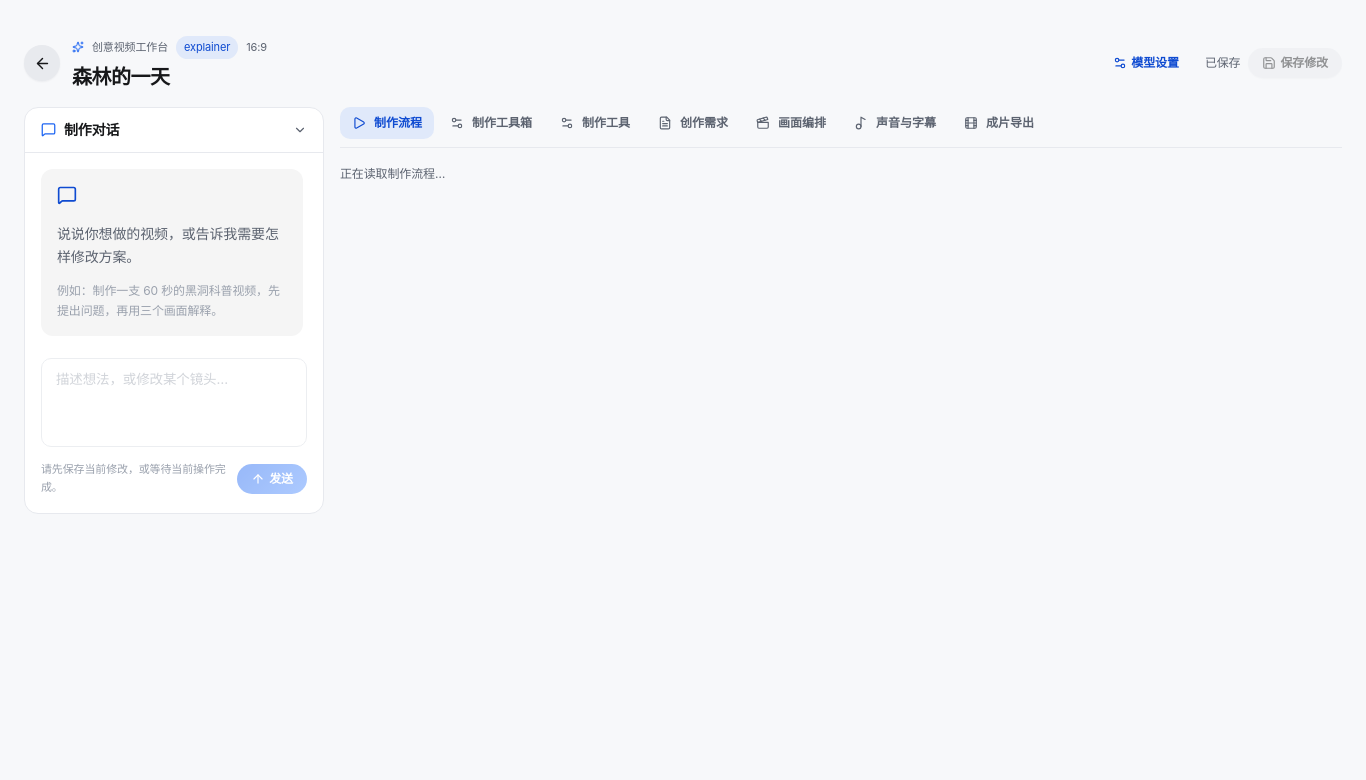
Test case: CreativeWorkbenchPage › saves a revisioned draft before allowing approval
The image size is (1366, 780).
Click the tab "创作需求".
click(693, 123)  # box 646,107 -> 740,139
(page scrolled)
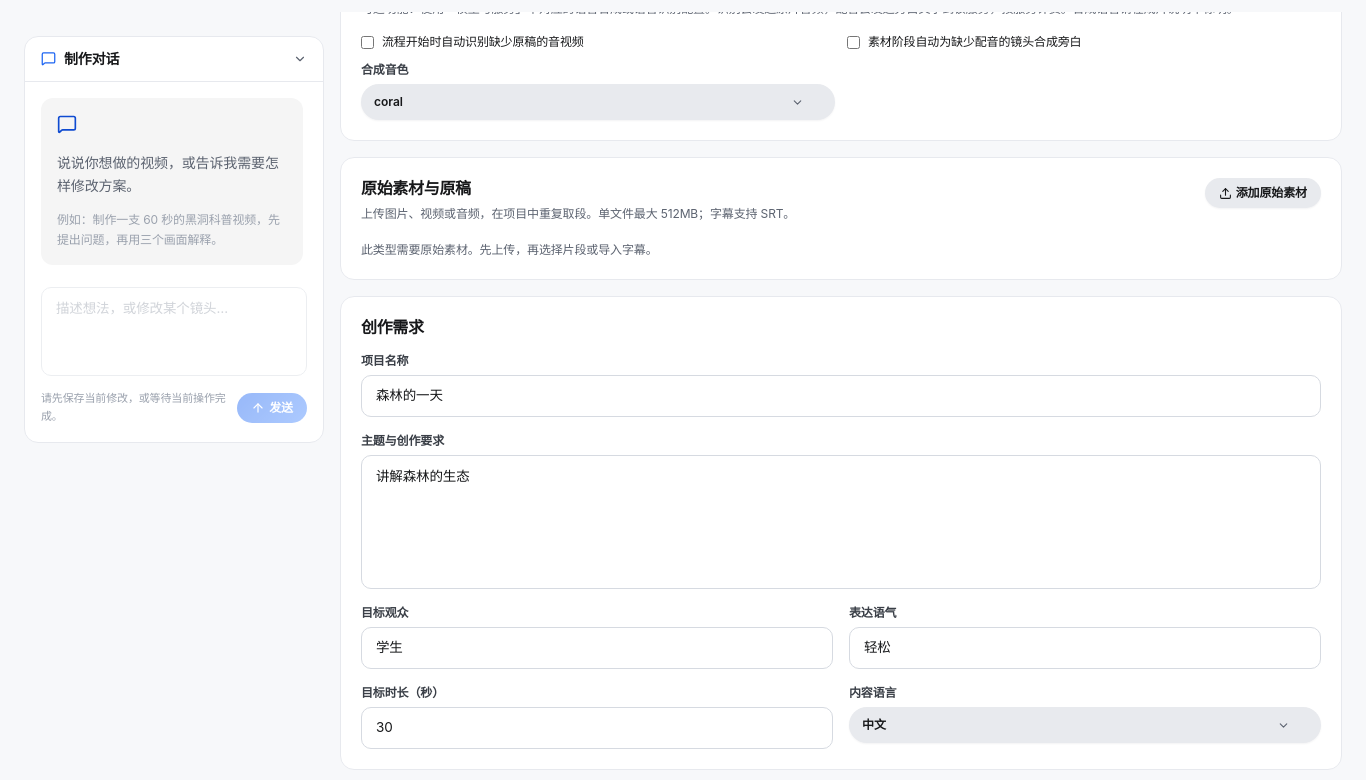
Replace the text in the field labelled "项目名称" with "新的森林标题" at (841, 396), box 361,375 -> 1321,417
(page scrolled)
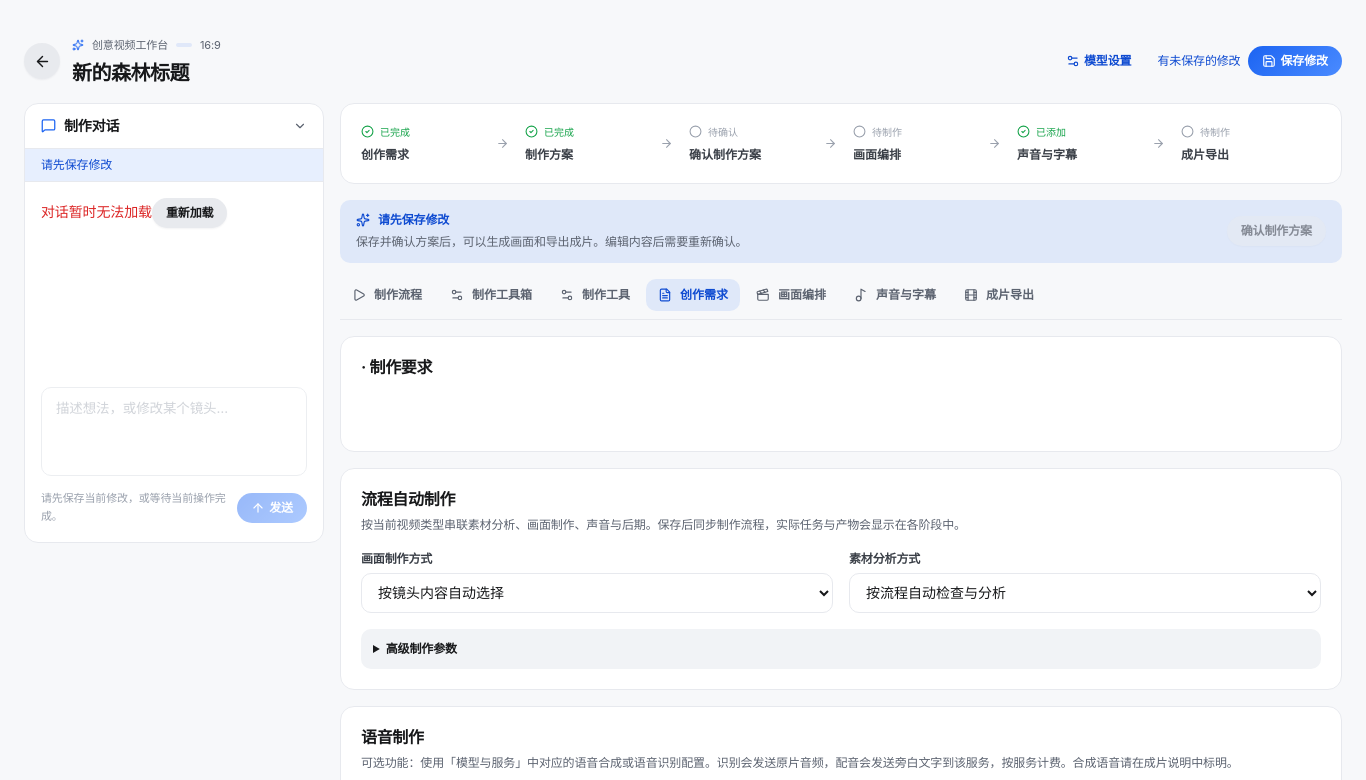
Click the button "保存修改".
click(1295, 61)  # box 1248,46 -> 1342,76
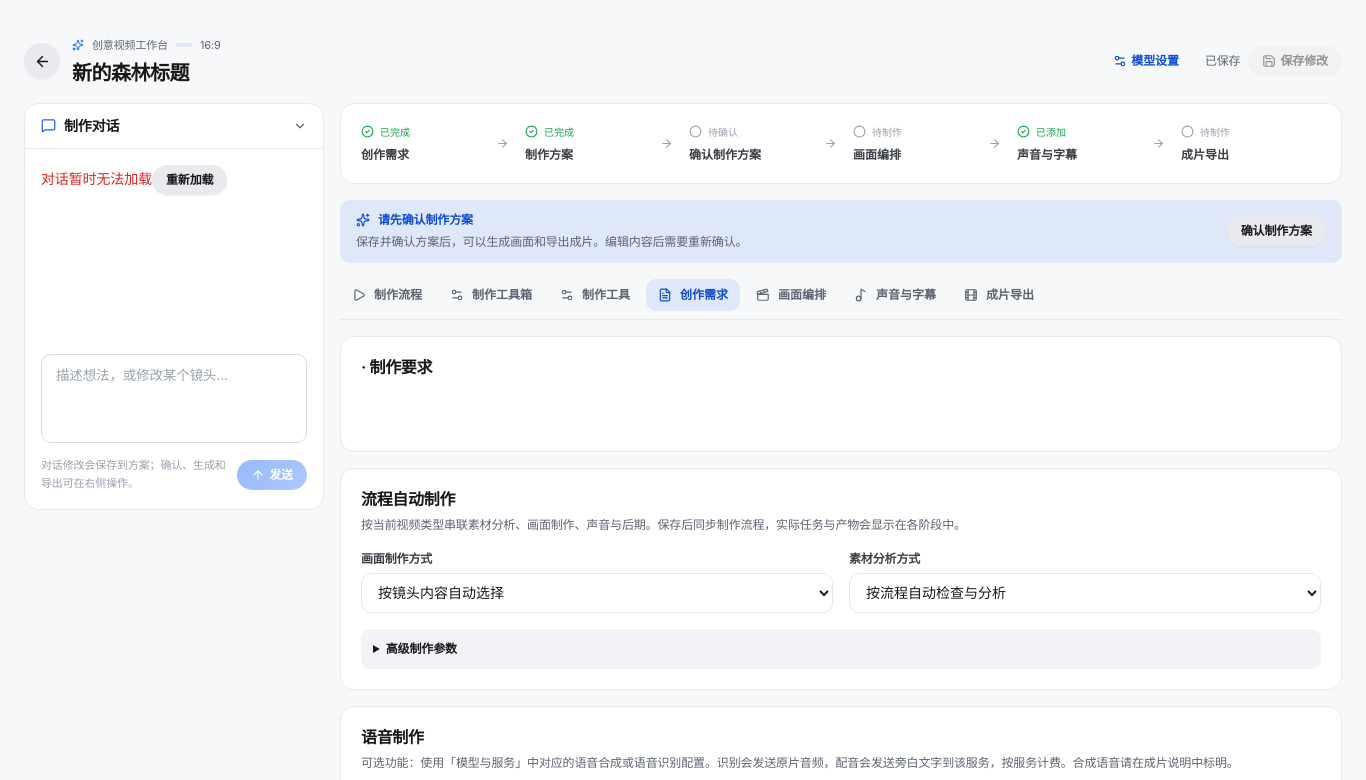
Now the button "确认制作方案" is enabled, box 1227,216 -> 1326,246
Now the button "保存修改" is disabled, box 1248,46 -> 1342,76
